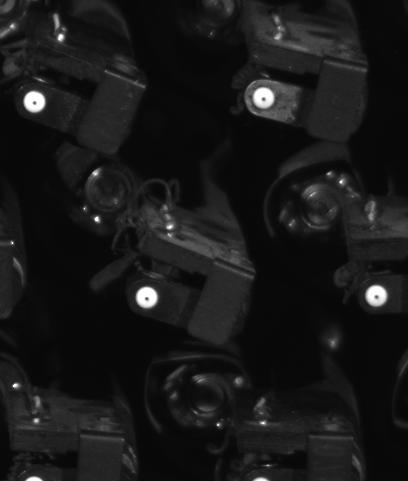fiber: (20, 87, 51, 117), (133, 283, 162, 313), (250, 84, 279, 113), (363, 282, 391, 311)
